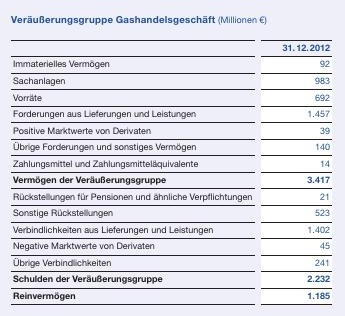table: (0, 0, 345, 316)
